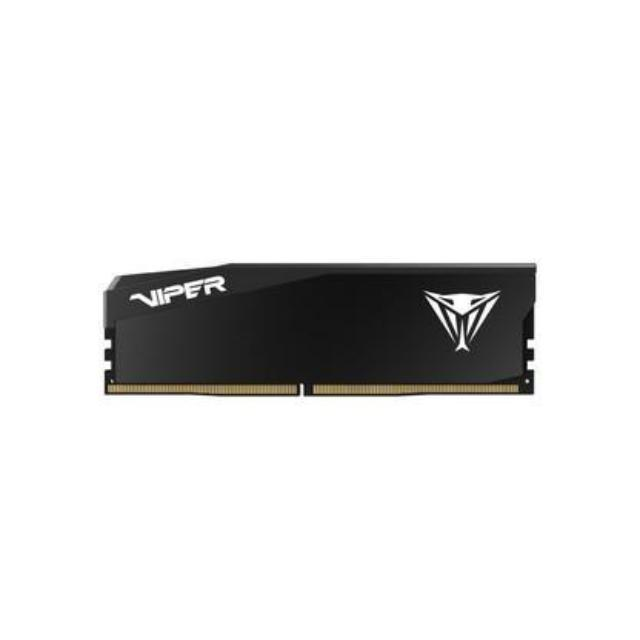RAM: (96, 252, 538, 406)
